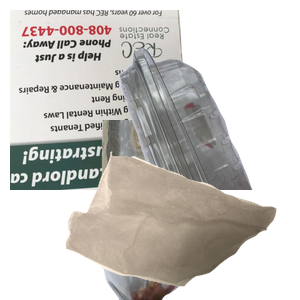glass: (96, 120, 283, 300)
paper: (10, 10, 201, 190)
plastic: (71, 45, 300, 225)
trash: (63, 149, 300, 300)
